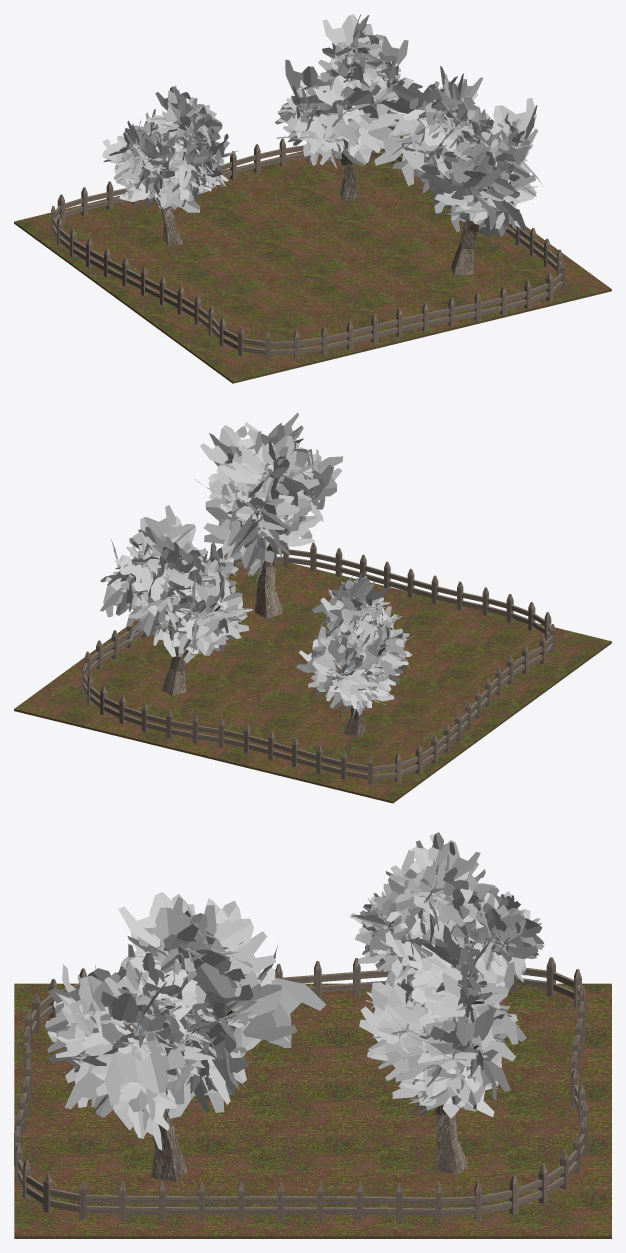
File: enclosure.gltf
3 views of the same model, one above another, from view 1: azimuth 30°, elevation 25°; view 2: azimuth 150°, elevation 25°; view 3: azimuth 270°, elevation 25° (orthographic). The views are drawn at different scales.
Parts seen in each view (by area): view 1: Floor, TreeBranch.001, Fences, TreeBranch.002, TreeBranch, TreeTrunk.001, TreeTrunk.002, TreeTrunk; view 2: Floor, Fences, TreeBranch.001, TreeBranch.002, TreeBranch, TreeTrunk.001, TreeTrunk.002, TreeTrunk; view 3: Floor, TreeBranch.001, TreeBranch.002, Fences, TreeBranch, TreeTrunk.001, TreeTrunk.002.
Boxes of the visible parts, left/top/right/bottom form: Floor: left=14, top=136, right=611, bottom=383; TreeBranch.001: left=366, top=66, right=542, bottom=237; Fences: left=51, top=138, right=564, bottom=360; TreeBranch.002: left=274, top=14, right=414, bottom=168; TreeBranch: left=102, top=85, right=238, bottom=214; TreeTrunk.001: left=451, top=140, right=522, bottom=275; TreeTrunk.002: left=300, top=45, right=391, bottom=200; TreeTrunk: left=128, top=145, right=191, bottom=245; Floor: left=14, top=553, right=611, bottom=803; Fences: left=81, top=542, right=555, bottom=784; TreeBranch.001: left=194, top=412, right=343, bottom=584; TreeBranch.002: left=100, top=505, right=252, bottom=663; TreeBranch: left=296, top=572, right=414, bottom=718; TreeTrunk.001: left=236, top=474, right=313, bottom=618; TreeTrunk.002: left=125, top=548, right=221, bottom=696; TreeTrunk: left=335, top=599, right=385, bottom=737; Floor: left=14, top=983, right=611, bottom=1238; TreeBranch.001: left=45, top=892, right=326, bottom=1150; TreeBranch.002: left=359, top=924, right=526, bottom=1118; Fences: left=14, top=957, right=588, bottom=1222; TreeBranch: left=349, top=832, right=544, bottom=993; TreeTrunk.001: left=125, top=958, right=233, bottom=1181; TreeTrunk.002: left=435, top=1001, right=485, bottom=1175.
Size of the model in its own units: 36.34 by 18.03 by 36.35.
